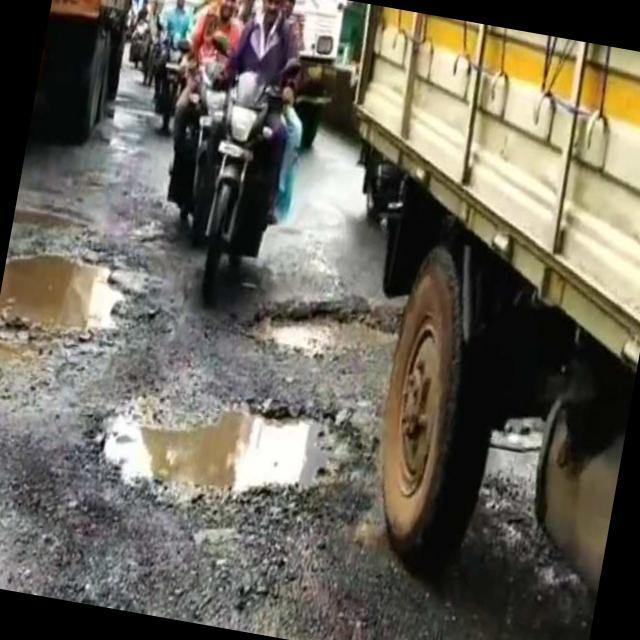Pothole: (106, 360, 354, 522), (0, 239, 132, 376), (242, 284, 396, 376)
